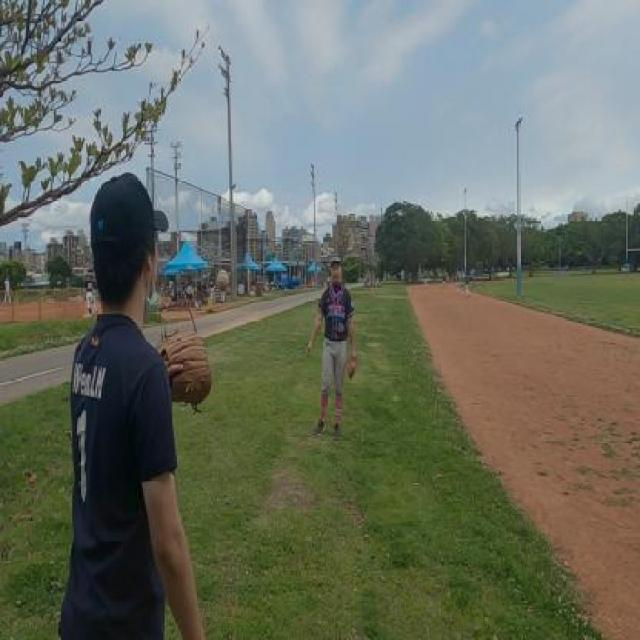ball: (216, 270, 230, 290)
